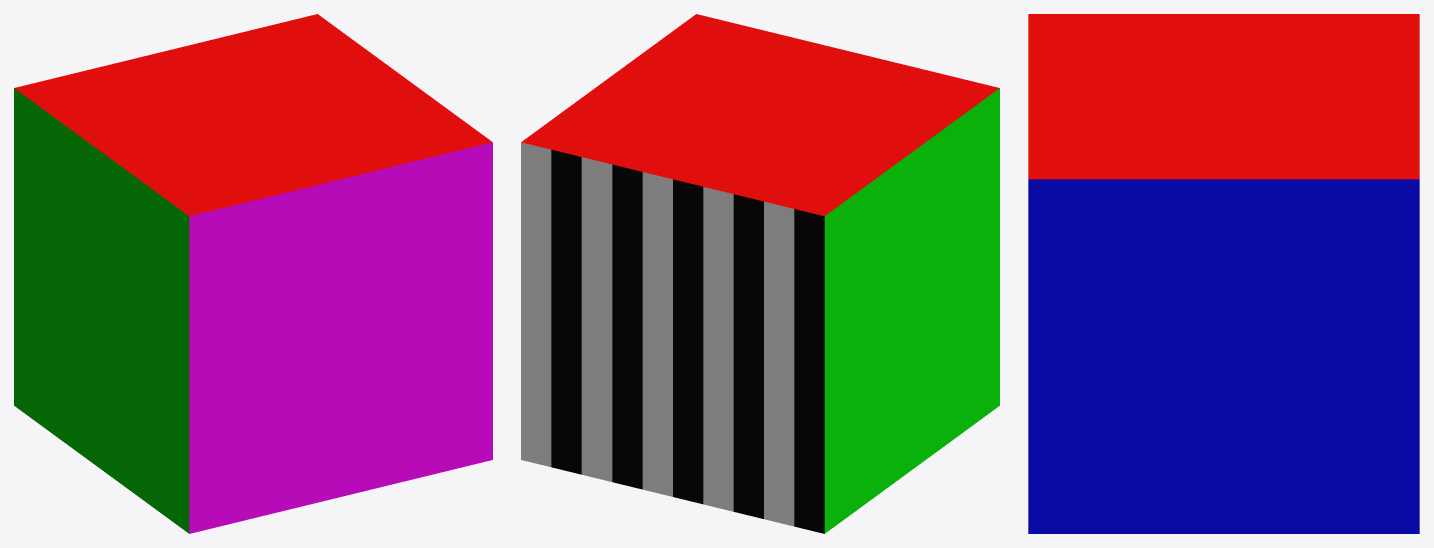
Rendered from CubeWithPattern.obj.
3 views of the same model, side by side, from view 1: azimuth 30°, elevation 25°; view 2: azimuth 150°, elevation 25°; view 3: azimuth 270°, elevation 25° (orthographic). The views are drawn at different scales.
Parts seen in each view (by area): view 1: Mesh1 Model; view 2: Mesh1 Model; view 3: Mesh1 Model.
Boxes of the visible parts, x1,y1,x2,y2 form: Mesh1 Model: [14, 14, 492, 533]; Mesh1 Model: [521, 14, 999, 533]; Mesh1 Model: [1028, 14, 1419, 533].
Size of the model in its own units: 0.2 by 0.2 by 0.2.
